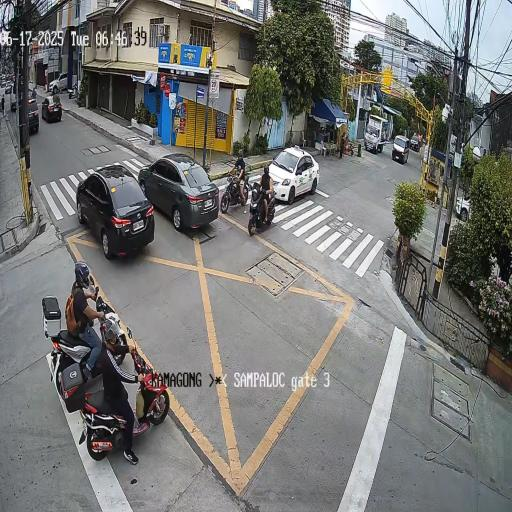Car: (58, 142, 176, 260), (134, 123, 219, 254), (262, 136, 337, 198), (24, 93, 54, 140), (40, 91, 70, 133), (391, 121, 414, 171)
Motor: (69, 299, 194, 448), (47, 248, 132, 398), (216, 136, 253, 222), (246, 158, 282, 236)
